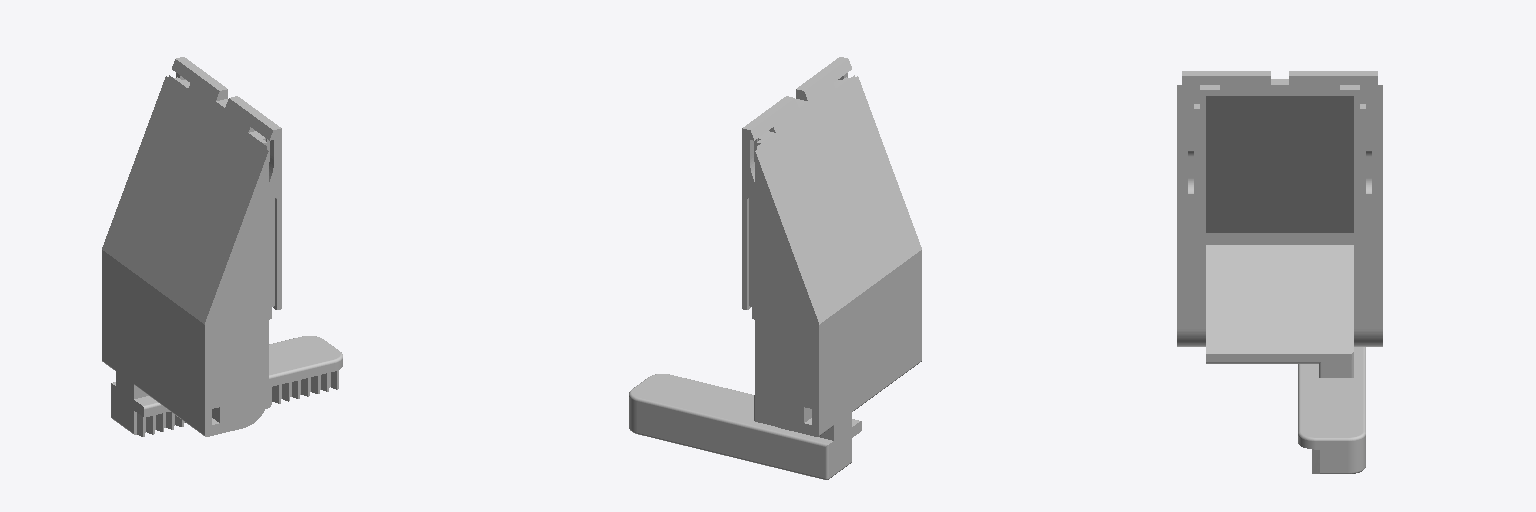
File: Prints_fingerRack.001.obj
The picture shows the model from 3 angles: view 1: azimuth 30°, elevation 25°; view 2: azimuth 150°, elevation 25°; view 3: azimuth 270°, elevation 25°; orthographic projection.
Parts seen in each view (by area): view 1: fingerRack.001; view 2: fingerRack.001; view 3: fingerRack.001.
Part boxes in pixels (bbox=[...]): fingerRack.001: bbox=[102, 57, 342, 436]; fingerRack.001: bbox=[629, 57, 921, 479]; fingerRack.001: bbox=[1177, 71, 1382, 473].
Bounding box in the file's own units: 0.052 × 0.0817 × 0.045.